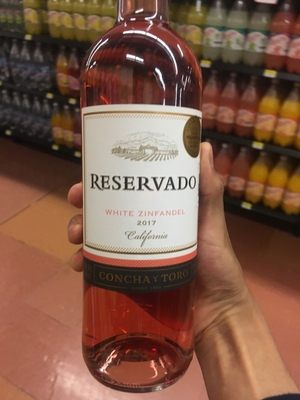reservado white zinfandel: (79, 12, 204, 378)
